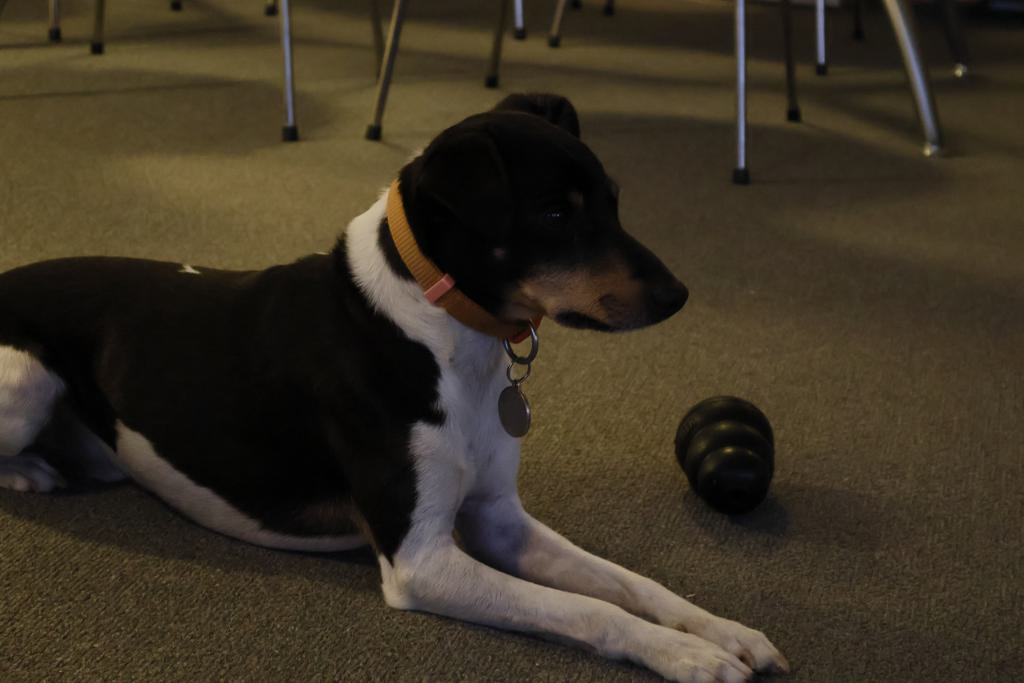Dog: (0, 86, 802, 683)
